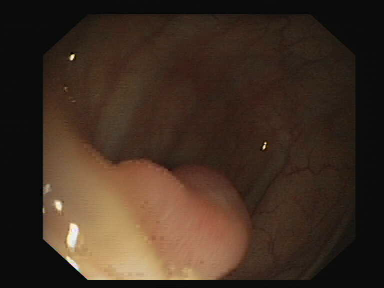polyp: (100, 126, 307, 262)
